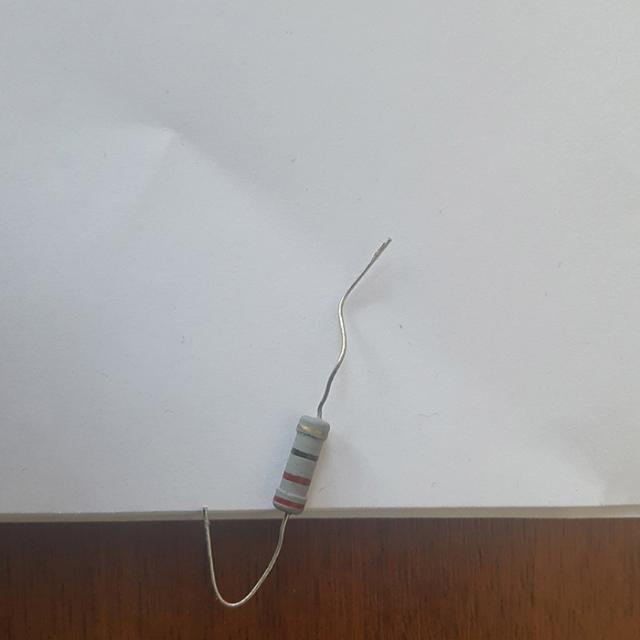brown: (292, 446, 318, 462)
gold: (298, 424, 326, 439)
red: (274, 495, 303, 507), (283, 472, 309, 485)
resistor: (261, 405, 347, 527)
